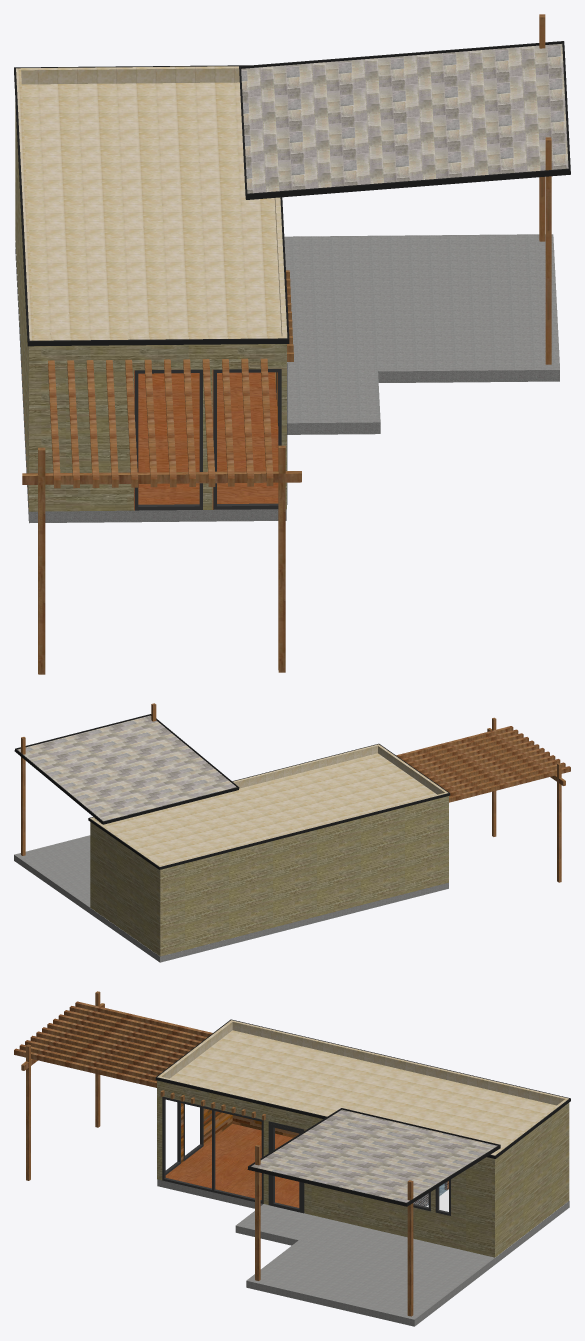
3 views of the same model, one above another, from view 1: azimuth 30°, elevation 25°; view 2: azimuth 150°, elevation 25°; view 3: azimuth 270°, elevation 25° (orthographic). The views are drawn at different scales.
Visible parts, largest first — view 1: Mesh20 TechoGeneral Techo_0 Basicos Infraestructura Model, Mesh8 Suelo Basicos Infraestructura Model, Mesh23 TechoSecundario NuevoTechito Techo_1 Basicos Infraestruct, Mesh42 Group16 Model, Mesh24 BordeDelTechoSecundario NuevoTechito Techo_1 Basicos Infr, Mesh21 BordeDelTecho Techo_0 Basicos Infraestructura Model, Mesh27 VigaDeSoporte Techo_2 Basicos Infraestructura Model, Mesh41 Component_28_4 Techo_2 Basicos Infraestructura Model, Mesh40 Component_28_3 Techo_2 Basicos Infraestructura Model, Mesh2 Group3 Group2 Group1 Ventanas Basicos Infraestructura Mode, Mesh26 Component_28_2 Techo_1 Basicos Infraestructura Model, Mesh1 Group3 Group2 Group1 Ventanas Basicos Infraestructura Mode (+12 smaller); view 2: Mesh42 Group16 Model, Mesh20 TechoGeneral Techo_0 Basicos Infraestructura Model, Mesh23 TechoSecundario NuevoTechito Techo_1 Basicos Infraestruct, Mesh8 Suelo Basicos Infraestructura Model, Mesh21 BordeDelTecho Techo_0 Basicos Infraestructura Model, Mesh24 BordeDelTechoSecundario NuevoTechito Techo_1 Basicos Infr, Mesh39 Bar12 TechitoDeVigasMadera Techo_2 Basicos Infraestructur, Mesh32 Bar5 TechitoDeVigasMadera Techo_2 Basicos Infraestructura, Mesh35 Bar8 TechitoDeVigasMadera Techo_2 Basicos Infraestructura, Mesh34 Bar7 TechitoDeVigasMadera Techo_2 Basicos Infraestructura, Mesh29 Bar2 TechitoDeVigasMadera Techo_2 Basicos Infraestructura, Mesh33 Bar6 TechitoDeVigasMadera Techo_2 Basicos Infraestructura (+8 smaller); view 3: Mesh8 Suelo Basicos Infraestructura Model, Mesh20 TechoGeneral Techo_0 Basicos Infraestructura Model, Mesh42 Group16 Model, Mesh23 TechoSecundario NuevoTechito Techo_1 Basicos Infraestruct, Mesh24 BordeDelTechoSecundario NuevoTechito Techo_1 Basicos Infr, Mesh21 BordeDelTecho Techo_0 Basicos Infraestructura Model, Mesh3 Group4 Group2 Group1 Ventanas Basicos Infraestructura Mode, Mesh28 Bar1 TechitoDeVigasMadera Techo_2 Basicos Infraestructura, Mesh25 Component_28_1 Techo_1 Basicos Infraestructura Model, Mesh38 Bar11 TechitoDeVigasMadera Techo_2 Basicos Infraestructur, Mesh31 Bar4 TechitoDeVigasMadera Techo_2 Basicos Infraestructura, Mesh32 Bar5 TechitoDeVigasMadera Techo_2 Basicos Infraestructura (+11 smaller).
Part boxes in pixels (<box>): Mesh20 TechoGeneral Techo_0 Basicos Infraestructura Model: <box>16,66,287,340</box>; Mesh8 Suelo Basicos Infraestructura Model: <box>15,234,559,523</box>; Mesh23 TechoSecundario NuevoTechito Techo_1 Basicos Infraestruct: <box>241,44,568,193</box>; Mesh42 Group16 Model: <box>15,102,286,511</box>; Mesh24 BordeDelTechoSecundario NuevoTechito Techo_1 Basicos Infr: <box>239,41,570,199</box>; Mesh21 BordeDelTecho Techo_0 Basicos Infraestructura Model: <box>14,65,289,346</box>; Mesh27 VigaDeSoporte Techo_2 Basicos Infraestructura Model: <box>22,471,301,484</box>; Mesh41 Component_28_4 Techo_2 Basicos Infraestructura Model: <box>38,447,45,674</box>; Mesh40 Component_28_3 Techo_2 Basicos Infraestructura Model: <box>278,445,285,672</box>; Mesh2 Group3 Group2 Group1 Ventanas Basicos Infraestructura Mode: <box>134,369,202,510</box>; Mesh26 Component_28_2 Techo_1 Basicos Infraestructura Model: <box>545,137,551,364</box>; Mesh1 Group3 Group2 Group1 Ventanas Basicos Infraestructura Mode: <box>213,369,281,509</box>; Mesh42 Group16 Model: <box>90,796,448,956</box>; Mesh20 TechoGeneral Techo_0 Basicos Infraestructura Model: <box>90,744,447,866</box>; Mesh23 TechoSecundario NuevoTechito Techo_1 Basicos Infraestruct: <box>17,715,236,821</box>; Mesh8 Suelo Basicos Infraestructura Model: <box>14,835,448,962</box>; Mesh21 BordeDelTecho Techo_0 Basicos Infraestructura Model: <box>88,743,450,869</box>; Mesh24 BordeDelTechoSecundario NuevoTechito Techo_1 Basicos Infr: <box>14,714,239,824</box>; Mesh39 Bar12 TechitoDeVigasMadera Techo_2 Basicos Infraestructur: <box>449,766,570,802</box>; Mesh32 Bar5 TechitoDeVigasMadera Techo_2 Basicos Infraestructura: <box>417,740,534,773</box>; Mesh35 Bar8 TechitoDeVigasMadera Techo_2 Basicos Infraestructura: <box>422,744,539,777</box>; Mesh34 Bar7 TechitoDeVigasMadera Techo_2 Basicos Infraestructura: <box>433,751,549,784</box>; Mesh29 Bar2 TechitoDeVigasMadera Techo_2 Basicos Infraestructura: <box>401,729,518,762</box>; Mesh33 Bar6 TechitoDeVigasMadera Techo_2 Basicos Infraestructura: <box>428,748,544,780</box>; Mesh8 Suelo Basicos Infraestructura Model: <box>157,1124,569,1326</box>; Mesh20 TechoGeneral Techo_0 Basicos Infraestructura Model: <box>157,1020,568,1155</box>; Mesh42 Group16 Model: <box>157,1080,569,1257</box>; Mesh23 TechoSecundario NuevoTechito Techo_1 Basicos Infraestruct: <box>251,1109,497,1202</box>; Mesh24 BordeDelTechoSecundario NuevoTechito Techo_1 Basicos Infr: <box>247,1108,500,1206</box>; Mesh21 BordeDelTecho Techo_0 Basicos Infraestructura Model: <box>155,1019,570,1158</box>; Mesh3 Group4 Group2 Group1 Ventanas Basicos Infraestructura Mode: <box>162,1096,263,1203</box>; Mesh28 Bar1 TechitoDeVigasMadera Techo_2 Basicos Infraestructura: <box>14,1048,156,1087</box>; Mesh25 Component_28_1 Techo_1 Basicos Infraestructura Model: <box>407,1180,413,1316</box>; Mesh38 Bar11 TechitoDeVigasMadera Techo_2 Basicos Infraestructur: <box>69,1006,206,1041</box>; Mesh31 Bar4 TechitoDeVigasMadera Techo_2 Basicos Infraestructura: <box>30,1035,167,1071</box>; Mesh32 Bar5 TechitoDeVigasMadera Techo_2 Basicos Infraestructura: <box>36,1031,173,1067</box>.
Bounding box in the file's own units: 14.28 × 4.8 × 14.44.
Materials: 16 (13 with a texture image).
